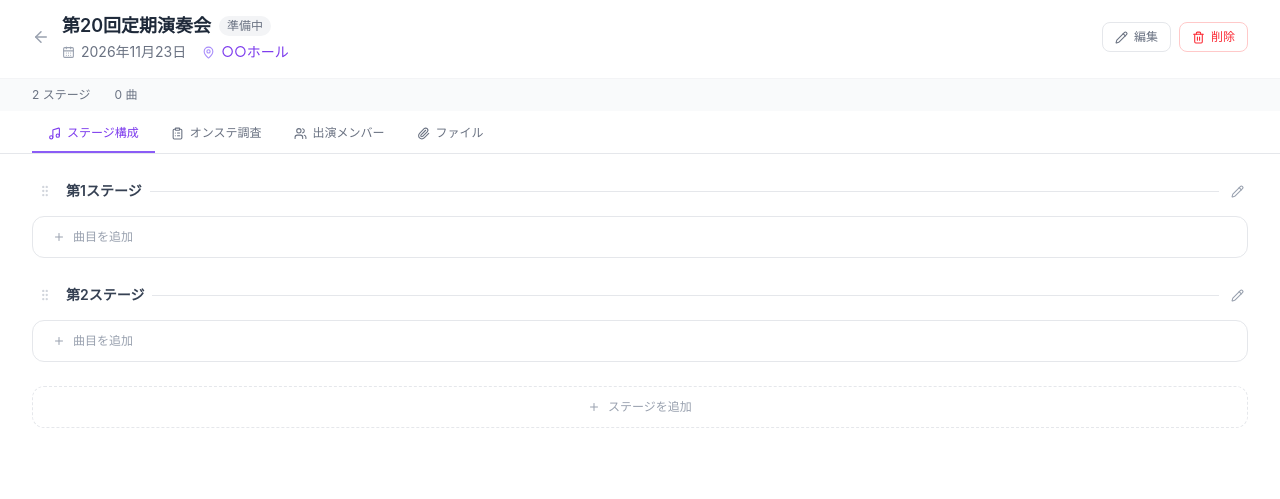
Test case: ConcertDetailPage（並び替えの失敗） › ステージの並び替えの保存に失敗したらサーバーから取り直して元の順に戻し、エラーを表示する
Press the mouse on the button named "第1ステージをドラッグして並び替え": [45, 191] box [32, 178, 58, 204]
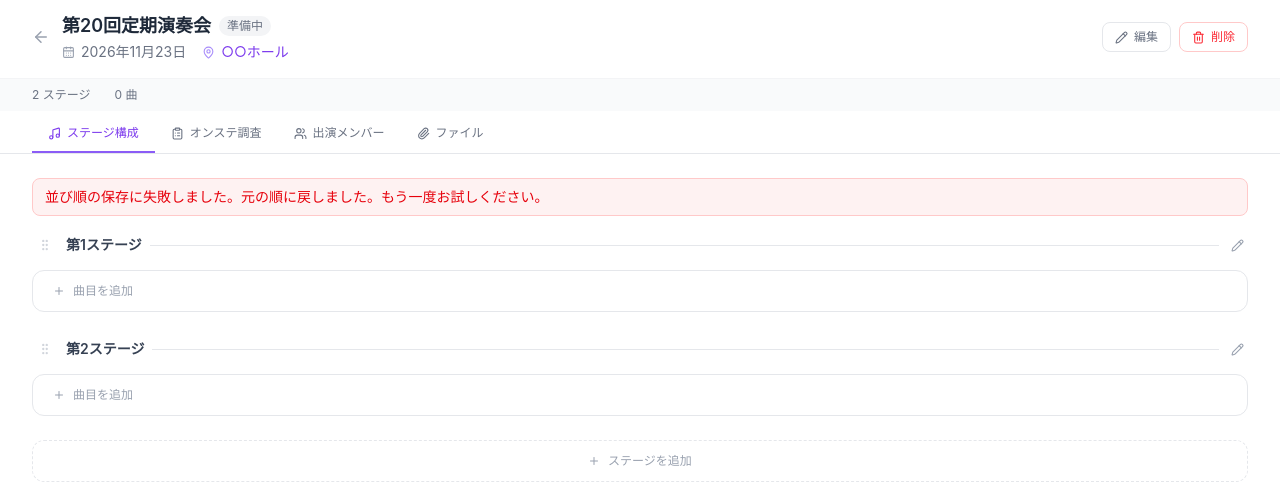
Check: the headings read "第1ステージ", "第2ステージ", in this order, box [66, 235, 142, 255]; [66, 339, 144, 359]
Check: the message shows "並び順の保存に失敗しました。元の順に戻しました。", box [45, 188, 549, 205]
